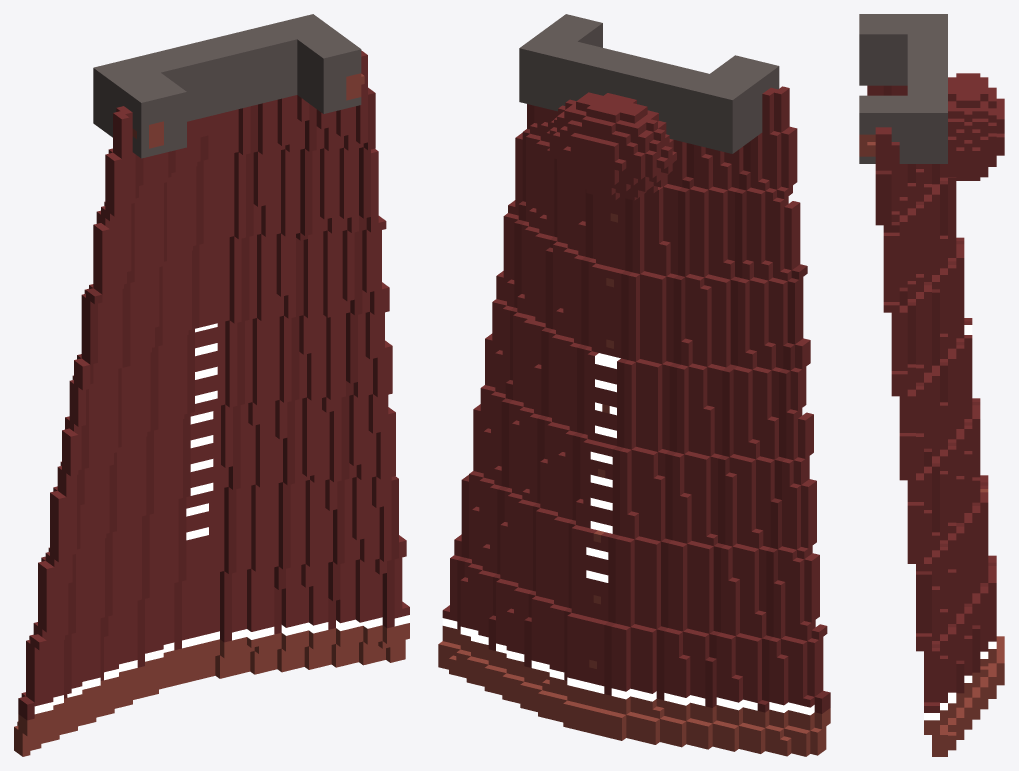
File: leather_masterwork_cloak.glb
3 renders of one model, left to right at view 1: azimuth 30°, elevation 25°; view 2: azimuth 150°, elevation 25°; view 3: azimuth 270°, elevation 25°, orthographic. The views are drawn at different scales.
Parts seen in each view (by area): view 1: leather_masterwork_cloak; view 2: leather_masterwork_cloak; view 3: leather_masterwork_cloak.
Boxes of the visible parts, x1,y1,x2,y2 form: leather_masterwork_cloak: [14, 14, 409, 756]; leather_masterwork_cloak: [438, 14, 830, 756]; leather_masterwork_cloak: [859, 14, 1004, 756].
Size of the model in its own units: 0.612 by 0.996 by 0.216.
